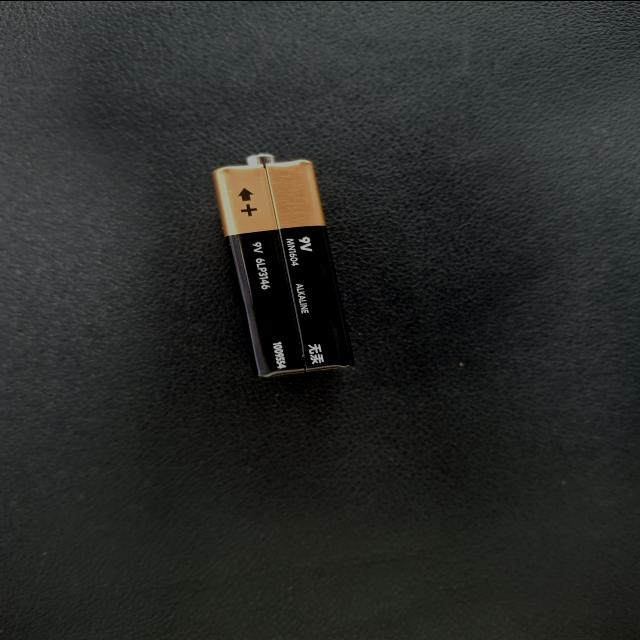9V: (204, 373, 504, 483)
